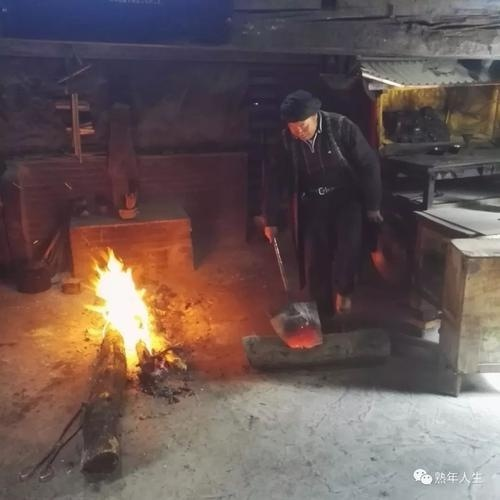fire: (88, 248, 163, 367)
